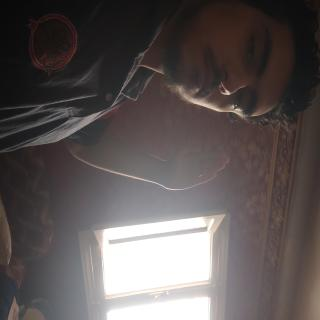SEEN: (101, 115, 147, 221)
